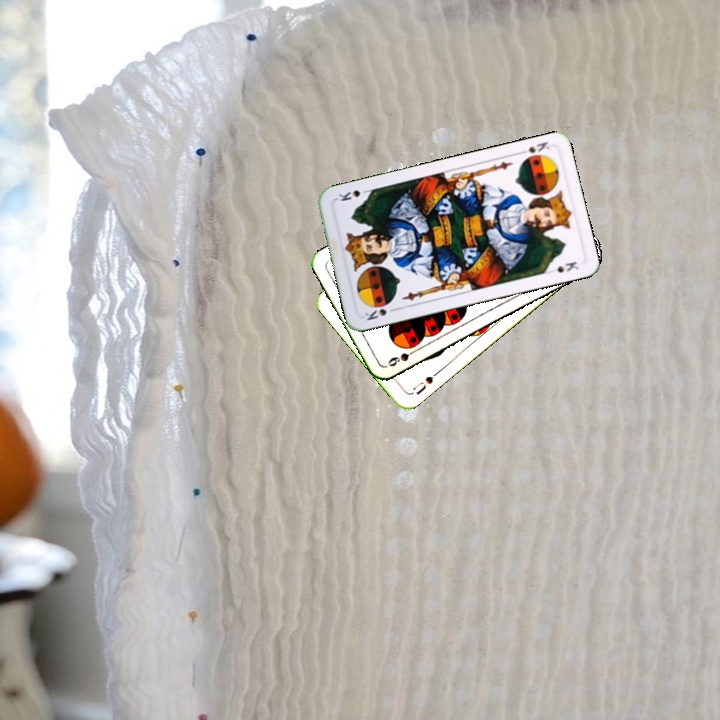S9: (383, 345, 421, 369)
SK: (514, 137, 552, 157), (361, 304, 400, 323)
SU: (408, 367, 441, 397)
